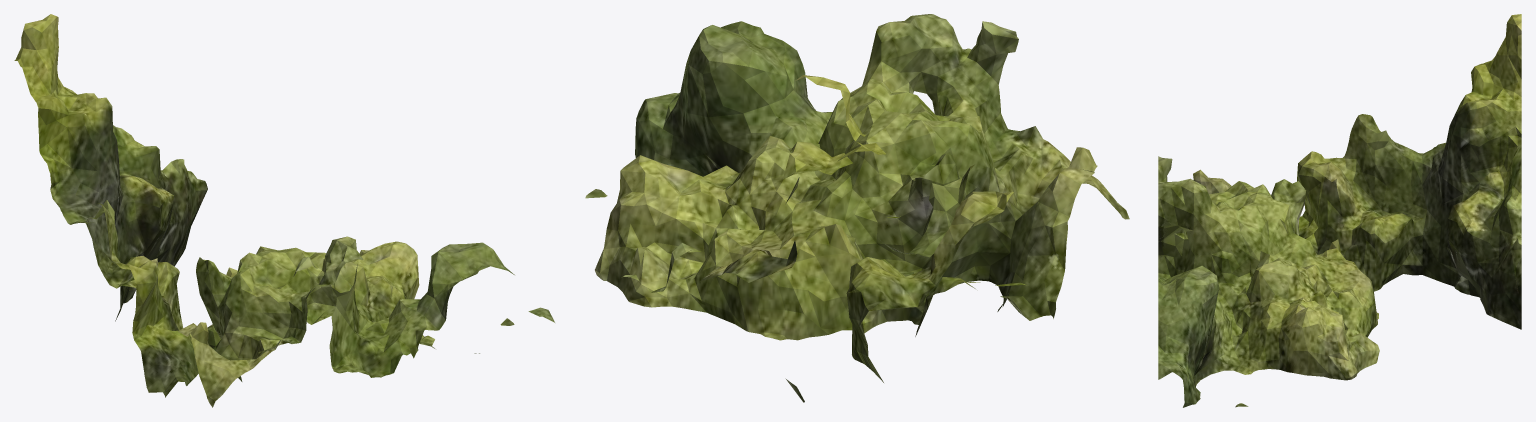
3 renders of one model, left to right at view 1: azimuth 30°, elevation 25°; view 2: azimuth 150°, elevation 25°; view 3: azimuth 270°, elevation 25°, orthographic. The views are drawn at different scales.
Bounding box in the file's own units: 5.9 × 4.45 × 5.9.
3 materials, 3 textured.
